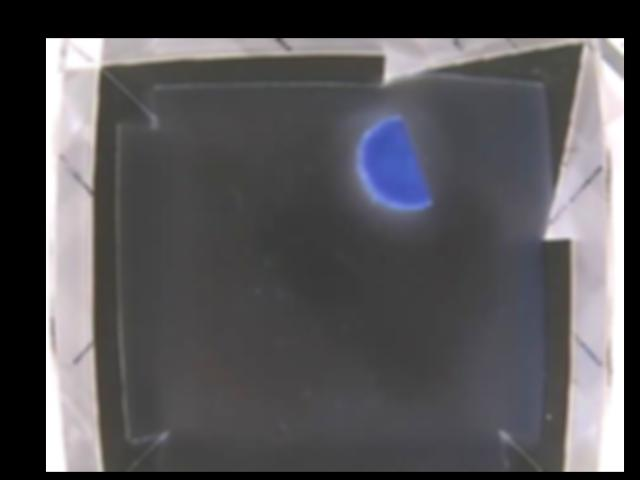Potato: (359, 115, 431, 209)
